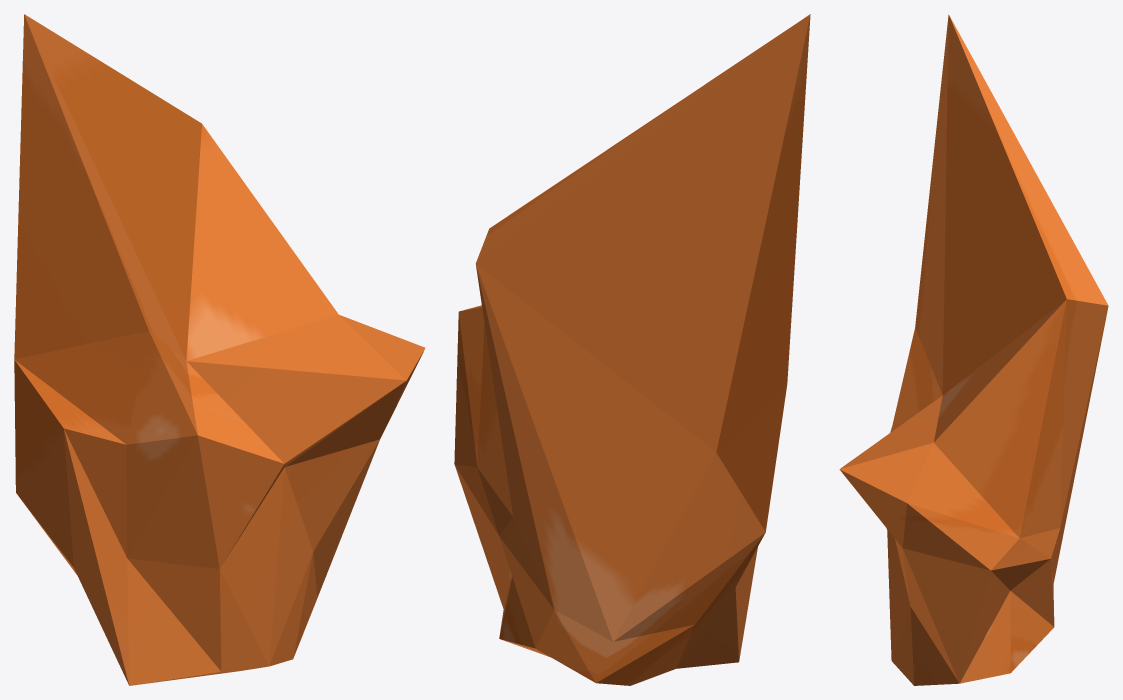
File: Cristal_3.fbx
3 views of the same model, side by side, from view 1: azimuth 30°, elevation 25°; view 2: azimuth 150°, elevation 25°; view 3: azimuth 270°, elevation 25° (orthographic). The views are drawn at different scales.
Visible parts, largest first — view 1: Cristal2.001; view 2: Cristal2.001; view 3: Cristal2.001.
Part boxes in pixels (left/top/right/bottom): Cristal2.001: left=14, top=14, right=425, bottom=685; Cristal2.001: left=454, top=14, right=810, bottom=685; Cristal2.001: left=839, top=14, right=1108, bottom=685.
Bounding box in the file's own units: 167 × 294 × 125.
